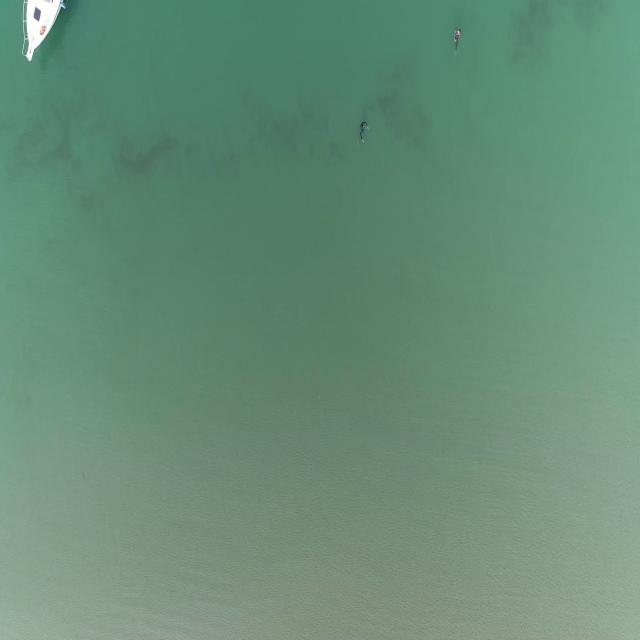boat: (20, 0, 66, 65)
person: (452, 26, 464, 54), (357, 121, 371, 143)
